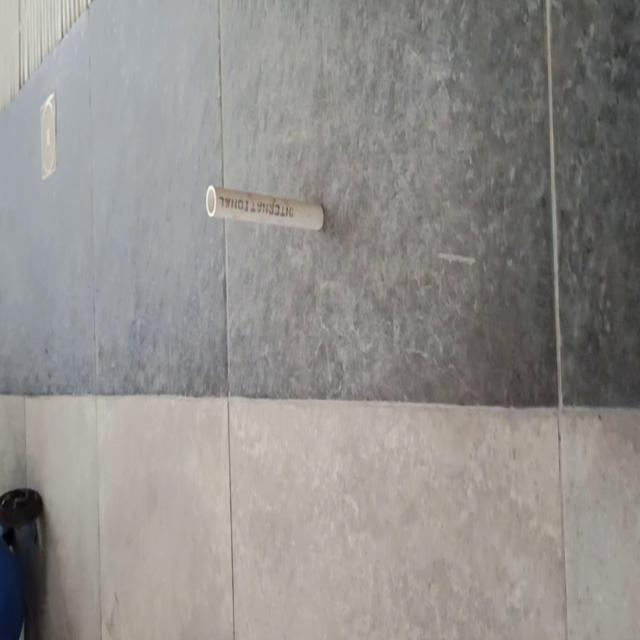Cube: (204, 182, 324, 232)
